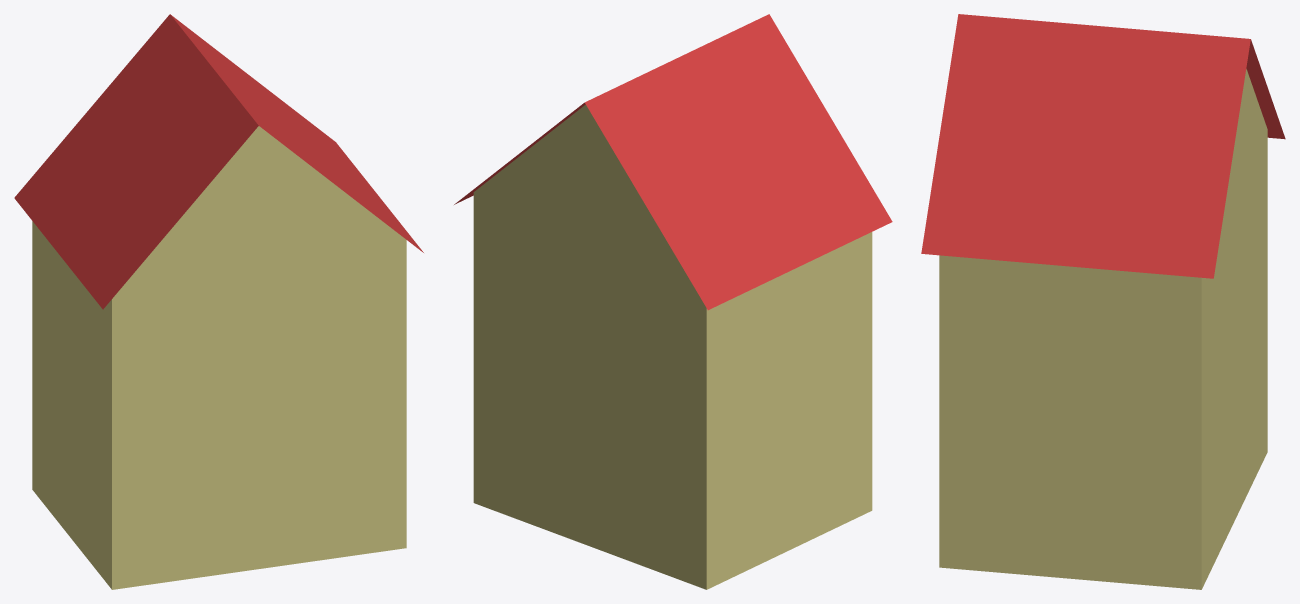
3 renders of one model, left to right at view 1: azimuth 30°, elevation 25°; view 2: azimuth 150°, elevation 25°; view 3: azimuth 270°, elevation 25°, orthographic. The views are drawn at different scales.
Bounding box in the file's own units: 6.73 × 5.91 × 8.6.
